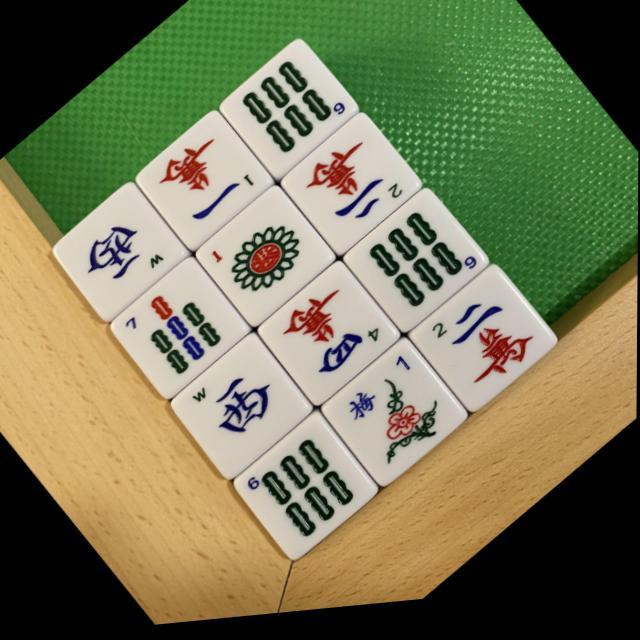bf1: (316, 338, 469, 504)
hww: (168, 330, 318, 490), (51, 176, 192, 327)
sb6: (225, 412, 378, 576), (348, 192, 490, 344), (222, 36, 361, 185)
sb7: (105, 257, 252, 414)
sc1: (132, 109, 274, 260)
sc2: (406, 264, 561, 431), (280, 113, 426, 269)
sc4: (254, 259, 405, 421)
sd1: (194, 186, 338, 340)
